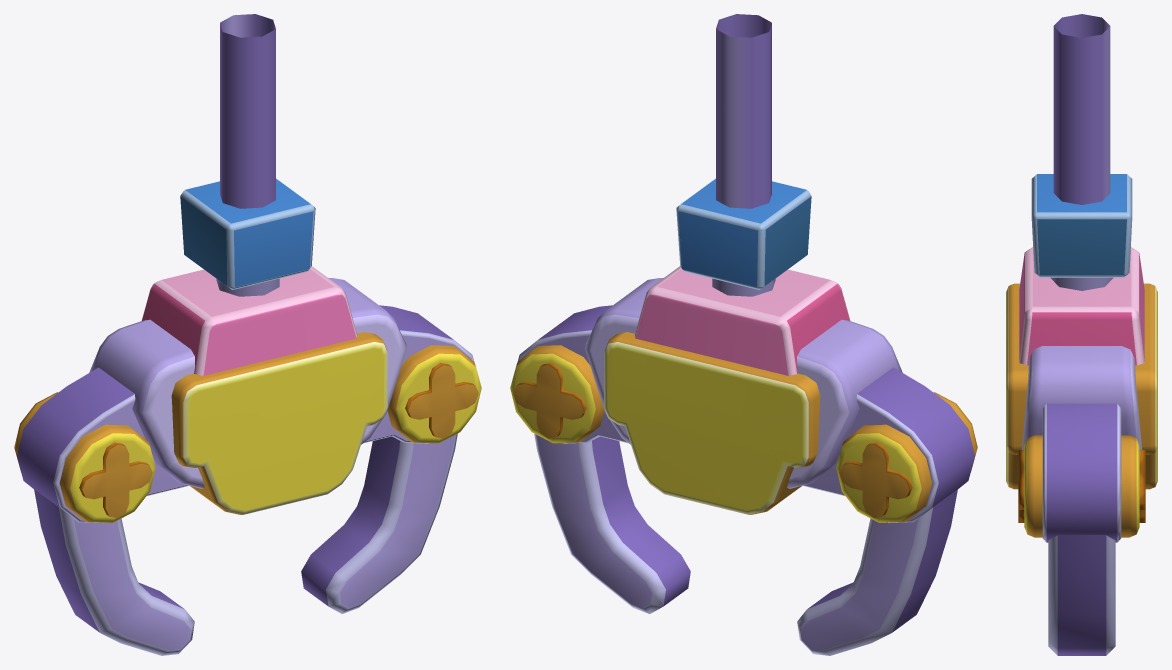
The model's file is ClawMachine.fbx.
3 renders of one model, left to right at view 1: azimuth 30°, elevation 25°; view 2: azimuth 150°, elevation 25°; view 3: azimuth 270°, elevation 25°, orthographic. The views are drawn at different scales.
Parts seen in each view (by area): view 1: Body, Claw_R, Claw_L, String; view 2: Body, Claw_R, Claw_L, String; view 3: Body, String, Claw_R.
Part boxes in pixels (x1,y1,x2,y2): Body: (14, 178, 481, 522); Claw_R: (301, 362, 478, 613); Claw_L: (34, 442, 194, 655); String: (220, 14, 275, 208); Body: (510, 178, 977, 522); Claw_R: (513, 362, 690, 613); Claw_L: (797, 442, 957, 655); String: (716, 14, 771, 208); Body: (1006, 174, 1157, 542); String: (1053, 14, 1110, 204); Claw_R: (1018, 450, 1145, 655).
Bounding box in the file's own units: 472 × 635 × 149.
